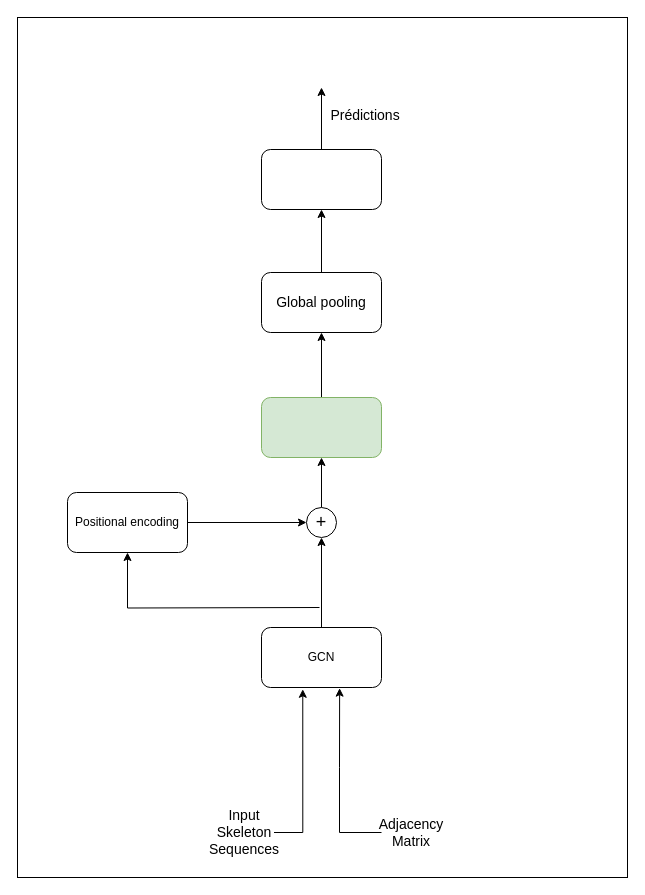
This 645x895 diagram has some shape labels left out. The box of each missing label's shape, as (x1, y1, x2, y2) in pixels:
Graph Encoder: (260, 396, 382, 458)
Softmax: (260, 148, 382, 210)
